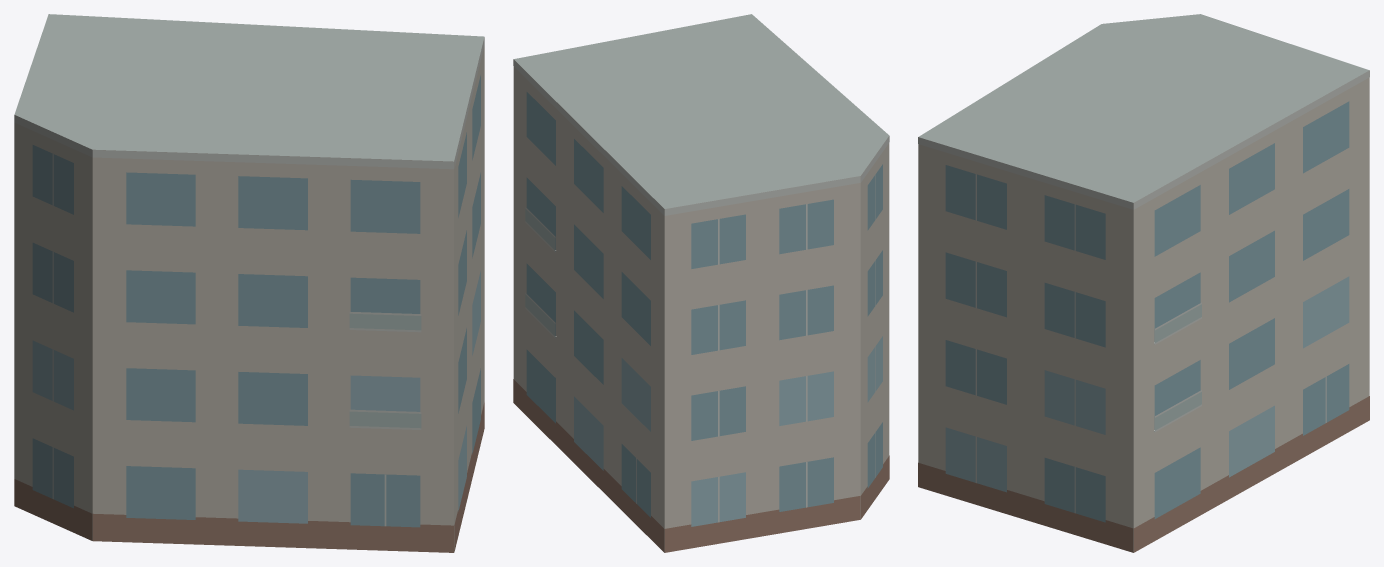
File: survey-upis-32672718.glb
3 renders of one model, left to right at view 1: azimuth 30°, elevation 25°; view 2: azimuth 150°, elevation 25°; view 3: azimuth 270°, elevation 25°, orthographic. The views are drawn at different scales.
Parts seen in each view (by area): view 1: survey-upis-32672718.tmp; view 2: survey-upis-32672718.tmp; view 3: survey-upis-32672718.tmp.
Part boxes in pixels (x1,y1,x2,y2): survey-upis-32672718.tmp: [14, 14, 484, 552]; survey-upis-32672718.tmp: [513, 14, 889, 552]; survey-upis-32672718.tmp: [918, 14, 1369, 552].
Bounding box in the file's own units: 14.13 × 12.2 × 14.27.
